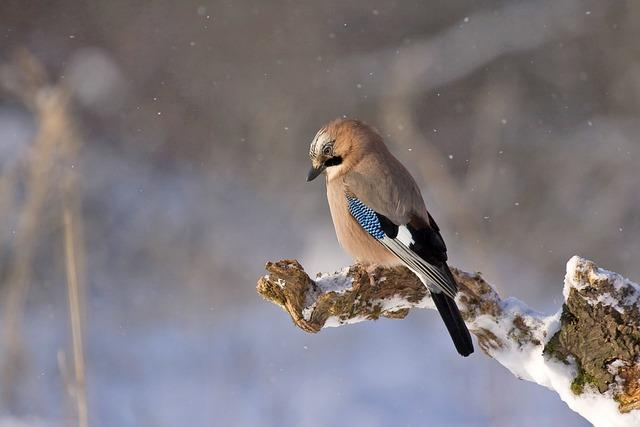bird: (306, 119, 473, 355)
